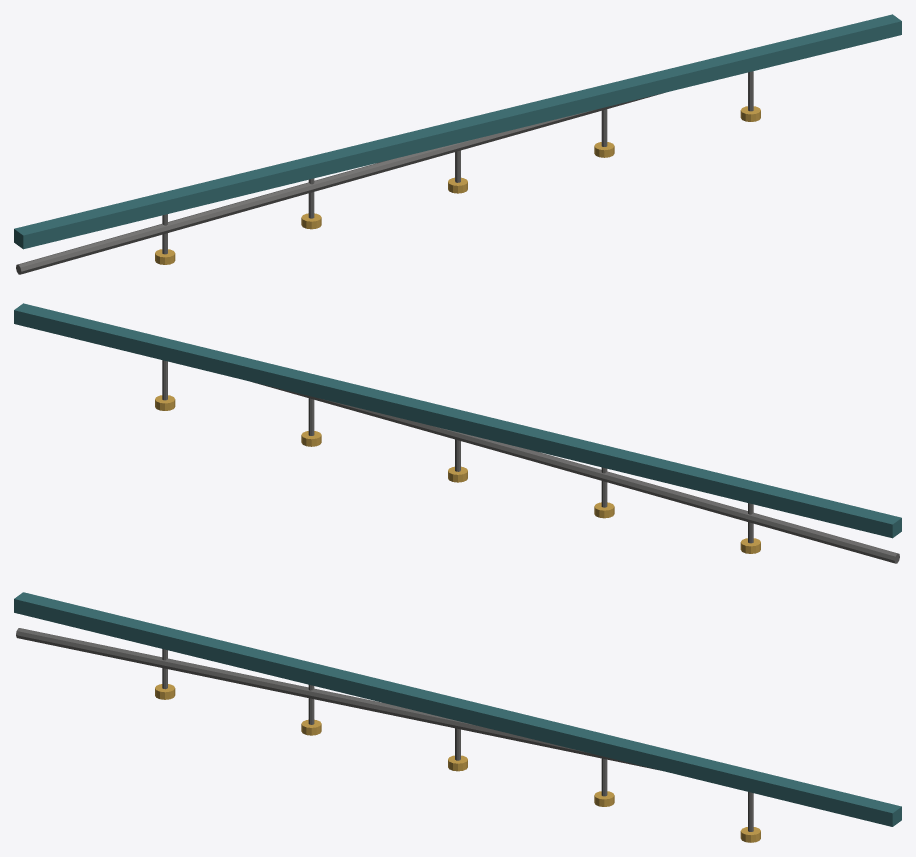
3 views of the same model, one above another, from view 1: azimuth 30°, elevation 25°; view 2: azimuth 150°, elevation 25°; view 3: azimuth 330°, elevation 25° (orthographic).
Parts seen in each view (by area): view 1: Irrigation arm; view 2: Irrigation arm; view 3: Irrigation arm.
Boxes of the visible parts, <box> form: Irrigation arm: <box>14,14,901,274</box>; Irrigation arm: <box>14,303,901,563</box>; Irrigation arm: <box>14,592,901,842</box>.
Bounding box in the file's own units: 12 × 0.84 × 0.24.
Materials: 1 (1 with a texture image).
